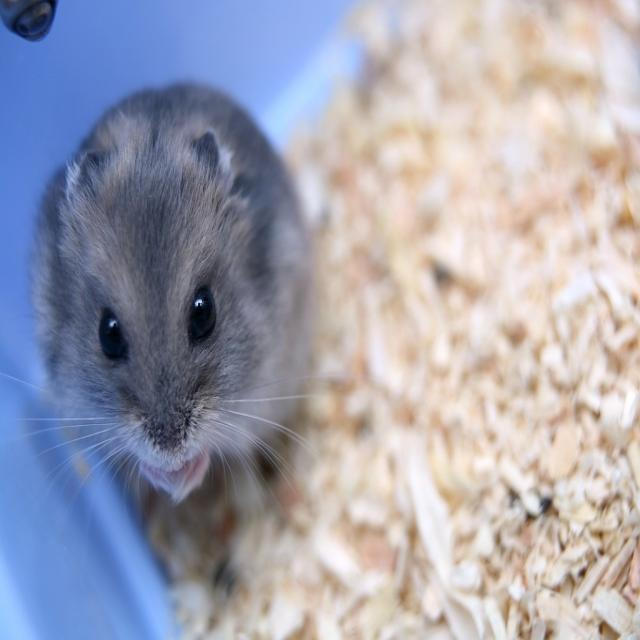rat: (31, 81, 312, 501)
